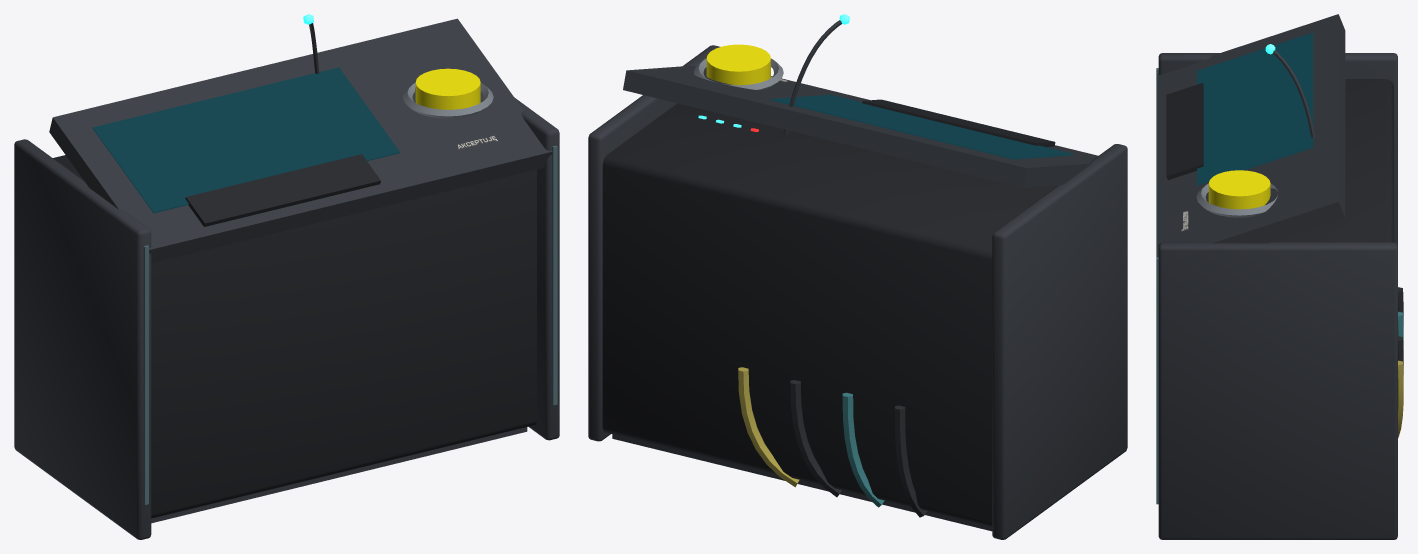
The model's file is console.glb.
The picture shows the model from 3 angles, left to right: view 1: azimuth 30°, elevation 25°; view 2: azimuth 150°, elevation 25°; view 3: azimuth 270°, elevation 25°; orthographic projection. The views are drawn at different scales.
Visible parts, largest first — view 1: Body, Screen; view 2: Body, Screen; view 3: Body, Screen.
Part boxes in pixels (x1,y1,x2,y2): Body: [14, 14, 559, 539]; Screen: [92, 67, 400, 213]; Body: [588, 14, 1127, 539]; Screen: [770, 94, 1074, 159]; Body: [1156, 14, 1403, 539]; Screen: [1197, 32, 1313, 185].
Size of the model in its own units: 1.2 by 1.17 by 0.6408.
